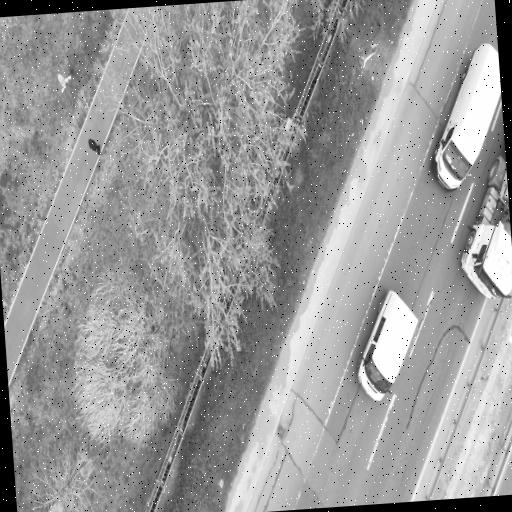car: (433, 43, 500, 189), (356, 290, 417, 399)
truck: (461, 156, 511, 298)
